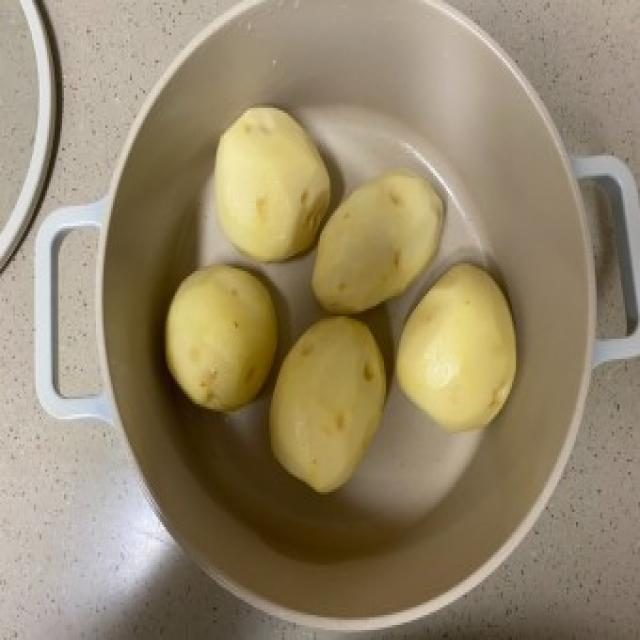potato: (266, 306, 390, 496), (397, 256, 521, 434), (311, 168, 445, 318), (212, 99, 332, 265), (164, 261, 282, 418)
